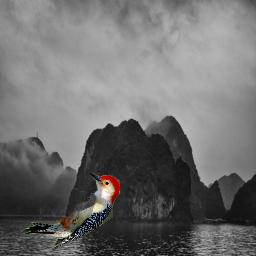Woodpecker: (22, 172, 120, 251)
